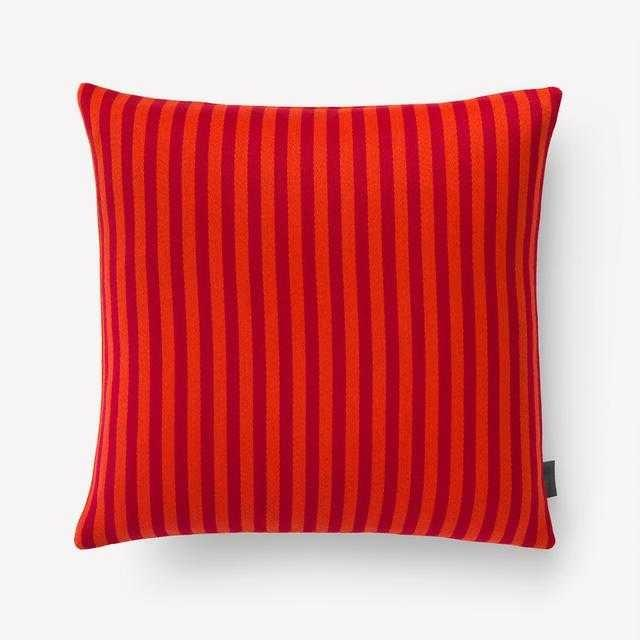pillow: (72, 80, 562, 552)
